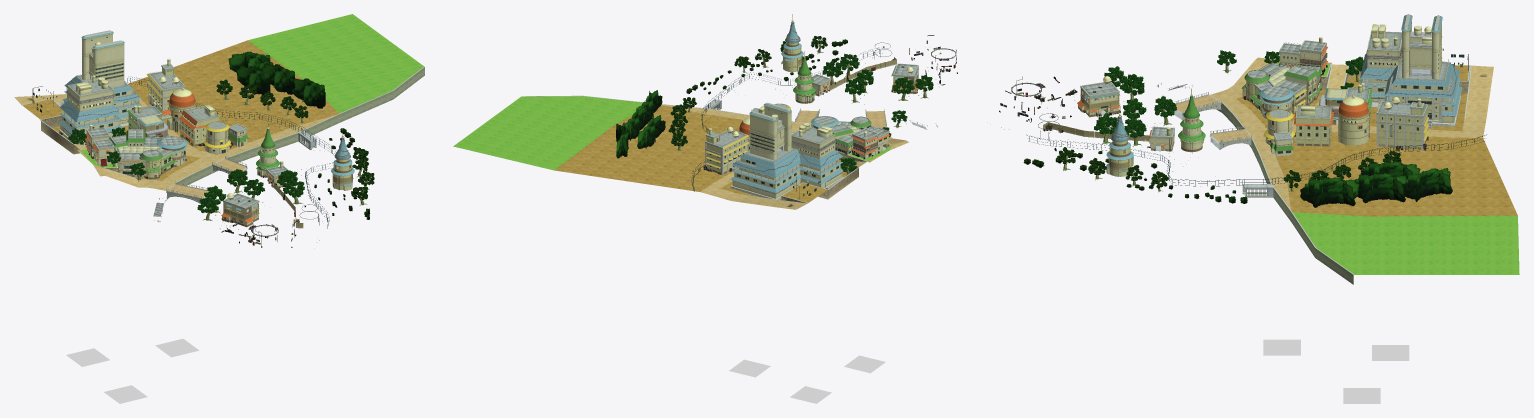
3 renders of one model, left to right at view 1: azimuth 30°, elevation 25°; view 2: azimuth 150°, elevation 25°; view 3: azimuth 270°, elevation 25°, orthographic. The views are drawn at different scales.
Visible parts, largest first — view 1: sa00nflo00_001, sa00fflo000_001, sa00fobj00_001, sa00nobj14_001, ki006_14_001, sa00uobj03_001, Quad_f, sa00nobj00_001, ha005_32_001, sa00fobj02_001, sa00nobj03_001, sa00fWindows (+6 smaller); view 2: sa00fflo000_001, sa00fobj00_001, sa00nflo00_001, sa00nobj14_001, ki006_14_001, sa00uobj03_001, Quad_f, ha005_32_001, sa00fWindows, sa00fobj02_001, ha003_00_001, sa00nobj00_001 (+4 smaller); view 3: sa00fflo000_001, sa00nflo00_001, sa00fobj00_001, sa00nobj14_001, ki006_14_001, sa00uobj03_001, sa00nobj00_001, Quad_f, sa00fobj02_001, sa00uobj15_001, sa00nobj03_001, ha005_07_001 (+6 smaller).
Part boxes in pixels (bbox=[...]): sa00nflo00_001: bbox=[80, 14, 424, 199]; sa00fflo000_001: bbox=[14, 40, 424, 190]; sa00fobj00_001: bbox=[58, 31, 353, 228]; sa00nobj14_001: bbox=[59, 30, 352, 227]; ki006_14_001: bbox=[228, 51, 325, 108]; sa00uobj03_001: bbox=[32, 36, 353, 245]; Quad_f: bbox=[66, 338, 199, 403]; sa00nobj00_001: bbox=[146, 67, 352, 187]; ha005_32_001: bbox=[216, 79, 308, 117]; sa00fobj02_001: bbox=[75, 42, 283, 201]; sa00nobj03_001: bbox=[157, 121, 354, 175]; sa00fWindows: bbox=[32, 63, 245, 175]; sa00fflo000_001: bbox=[522, 95, 908, 209]; sa00fobj00_001: bbox=[706, 42, 918, 198]; sa00nflo00_001: bbox=[453, 96, 891, 170]; sa00nobj14_001: bbox=[705, 43, 937, 199]; ki006_14_001: bbox=[616, 90, 665, 158]; sa00uobj03_001: bbox=[709, 14, 956, 199]; Quad_f: bbox=[729, 355, 885, 403]; ha005_32_001: bbox=[668, 97, 696, 146]; sa00fWindows: bbox=[710, 133, 886, 196]; sa00fobj02_001: bbox=[708, 67, 913, 139]; ha003_00_001: bbox=[686, 39, 856, 94]; sa00nobj00_001: bbox=[706, 50, 801, 172]; sa00fflo000_001: bbox=[1209, 57, 1517, 274]; sa00nflo00_001: bbox=[1216, 63, 1519, 284]; sa00fobj00_001: bbox=[1043, 15, 1462, 176]; sa00nobj14_001: bbox=[1078, 14, 1460, 197]; ki006_14_001: bbox=[1300, 161, 1452, 207]; sa00uobj03_001: bbox=[1011, 21, 1468, 195]; sa00nobj00_001: bbox=[1108, 80, 1427, 167]; Quad_f: bbox=[1263, 339, 1409, 403]; sa00fobj02_001: bbox=[1102, 24, 1431, 136]; sa00uobj15_001: bbox=[1026, 62, 1486, 186]; sa00nobj03_001: bbox=[1106, 86, 1295, 160]; ha005_07_001: bbox=[1056, 147, 1168, 188].
Bounding box in the file's own units: 220 × 173 × 241.
Materials: 33 (33 with a texture image).
